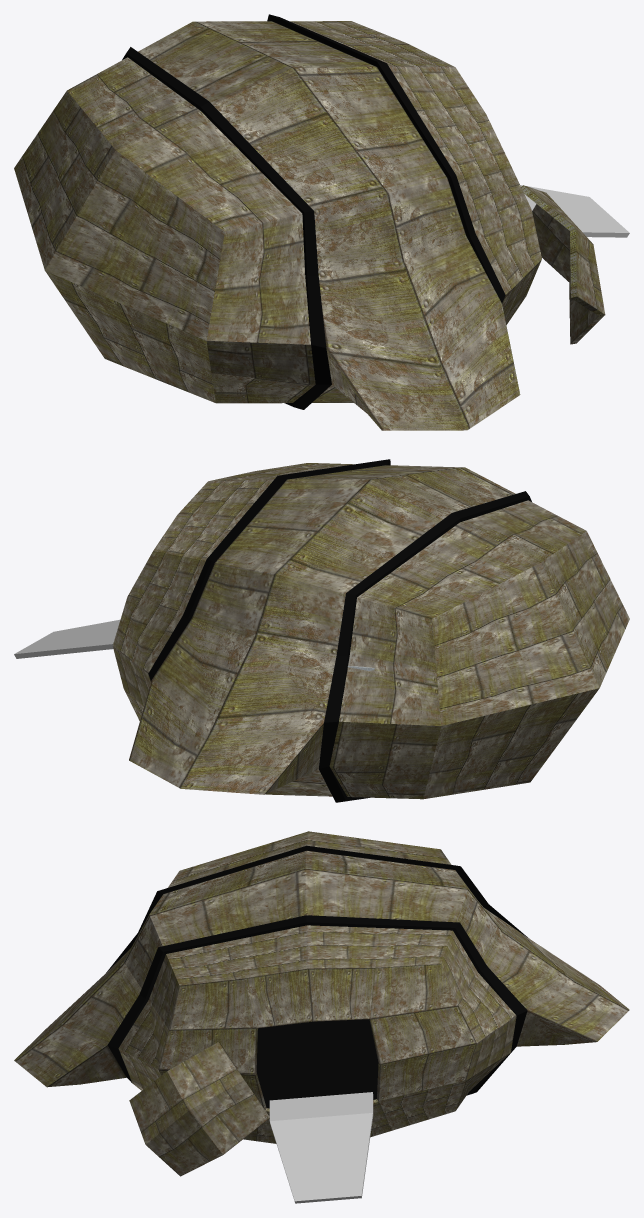
The model's file is ship.fbx.
The picture shows the model from 3 angles, top to bottom: view 1: azimuth 30°, elevation 25°; view 2: azimuth 150°, elevation 25°; view 3: azimuth 270°, elevation 25°; orthographic projection. The views are drawn at different scales.
Visible parts, largest first — view 1: Cube, Cube.001, Cube.002; view 2: Cube, Cube.002; view 3: Cube, Cube.001, Cube.002, Plane.
Part boxes in pixels (left/top/right/bottom): Cube: left=14, top=14, right=541, bottom=430; Cube.001: left=521, top=185, right=605, bottom=344; Cube.002: left=520, top=185, right=629, bottom=237; Cube: left=112, top=459, right=629, bottom=802; Cube.002: left=14, top=619, right=120, bottom=658; Cube: left=14, top=831, right=629, bottom=1143; Cube.001: left=129, top=1042, right=269, bottom=1176; Cube.002: left=269, top=1092, right=373, bottom=1203; Plane: left=256, top=1019, right=378, bottom=1108.
Size of the model in its own units: 3326 by 1660 by 3753.
